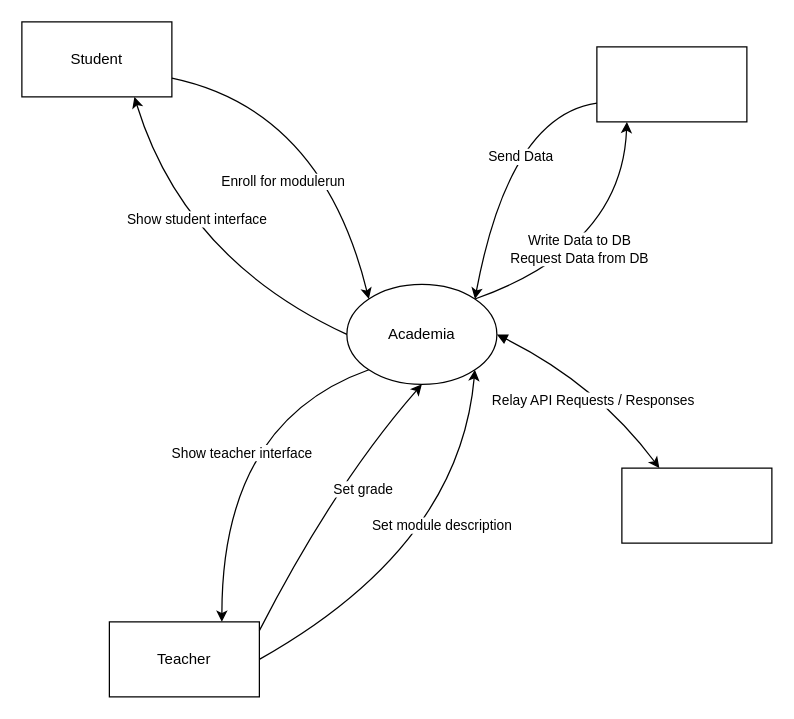
Some shapes in this 794 by 719 pixel diagram are drawn without their labels. The shapes that lost their labels are listed below. From the top down, each one's box as (x1, y1, x2, y2) in pixels, then its label:
(596, 46, 747, 122): PostgreSQL
(621, 467, 772, 543): Tomcat
